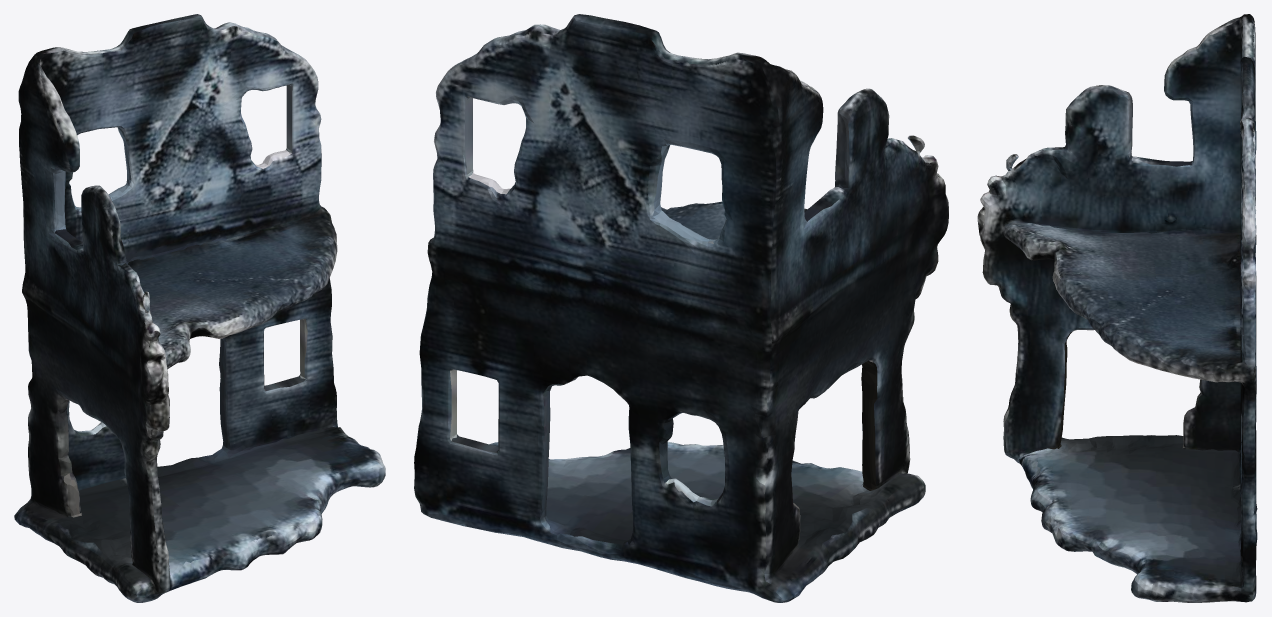
File: ruin-corner.glb
The picture shows the model from 3 angles, left to right: view 1: azimuth 30°, elevation 25°; view 2: azimuth 150°, elevation 25°; view 3: azimuth 270°, elevation 25°; orthographic projection. The views are drawn at different scales.
Parts seen in each view (by area): view 1: tmp5hoo48qt.ply; view 2: tmp5hoo48qt.ply; view 3: tmp5hoo48qt.ply.
Part boxes in pixels (left/top/right/bottom): tmp5hoo48qt.ply: left=14, top=14, right=385, bottom=602; tmp5hoo48qt.ply: left=414, top=14, right=948, bottom=602; tmp5hoo48qt.ply: left=977, top=14, right=1257, bottom=602.
Size of the model in its own units: 1 by 1.36 by 0.7598.
Materials: 1 (1 with a texture image).
